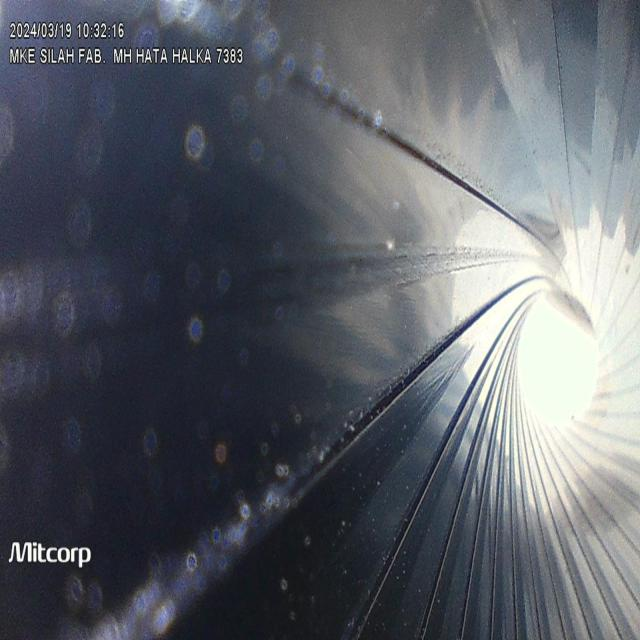hata_8.1: (375, 216, 540, 299)
